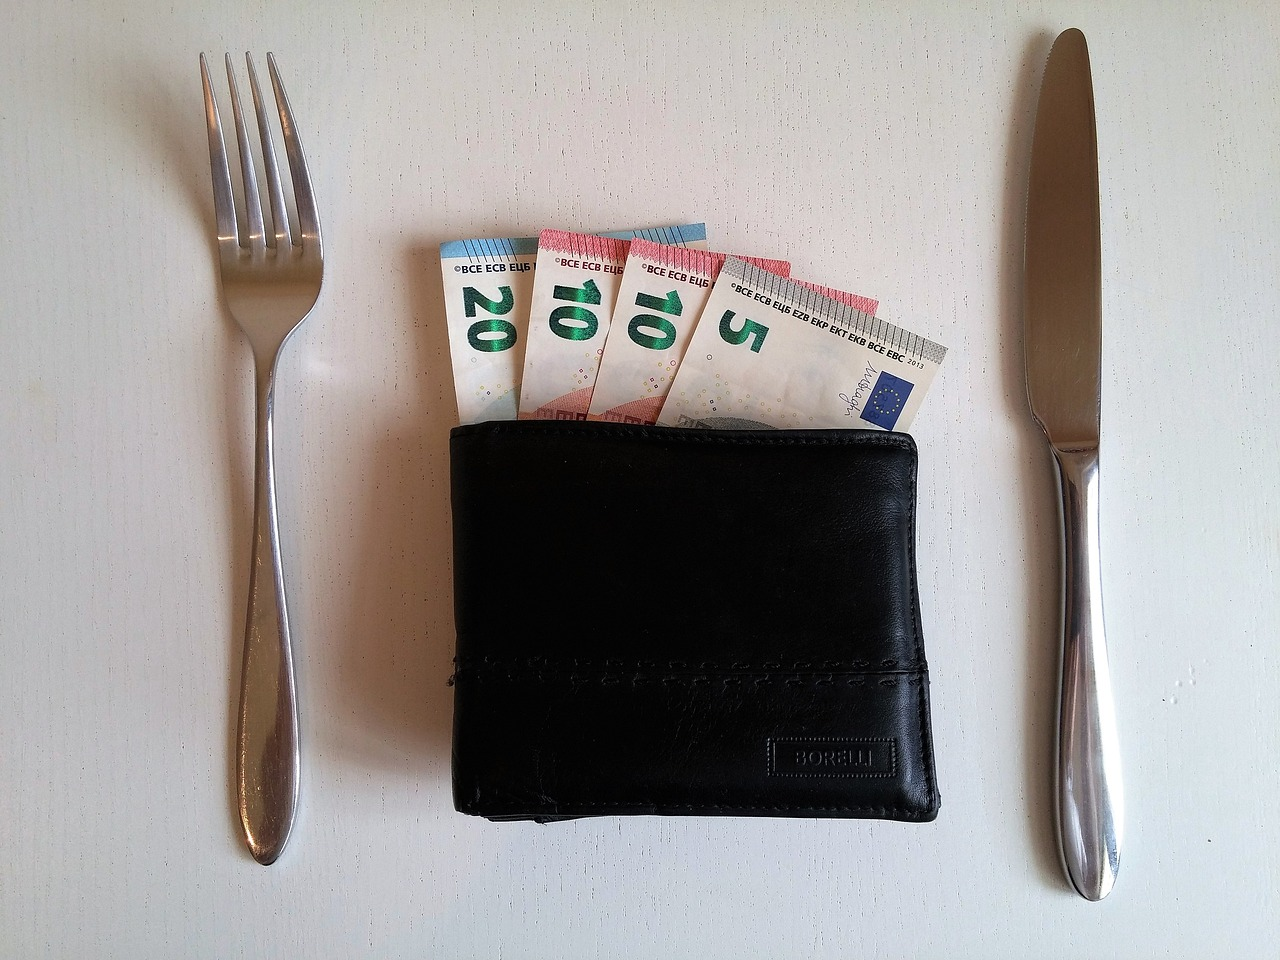knife: (1016, 23, 1142, 912)
